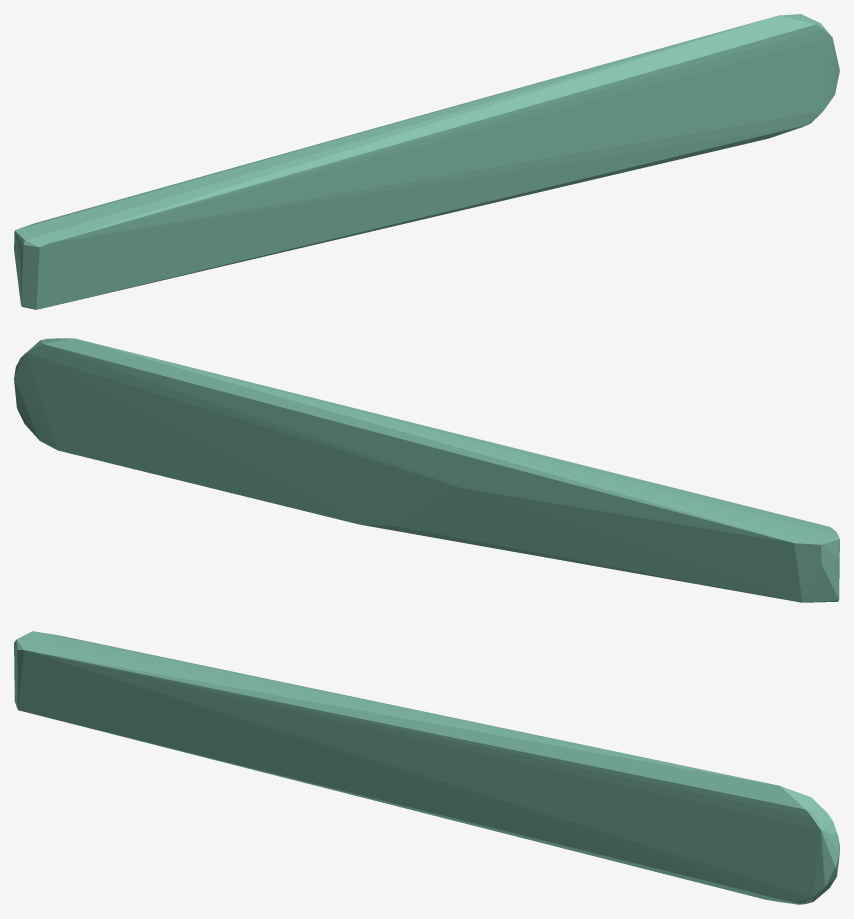
File: instrument_retractor_a01.glb
3 views of the same model, one above another, from view 1: azimuth 30°, elevation 25°; view 2: azimuth 150°, elevation 25°; view 3: azimuth 330°, elevation 25° (orthographic). The views are drawn at different scales.
Parts seen in each view (by area): view 1: geometry_0; view 2: geometry_0; view 3: geometry_0.
Boxes of the visible parts, x1,y1,x2,y2 form: geometry_0: [14, 14, 839, 309]; geometry_0: [14, 338, 839, 602]; geometry_0: [14, 631, 839, 904].
Bounding box in the file's own units: 0.4791 × 0.0658 × 0.0292.
